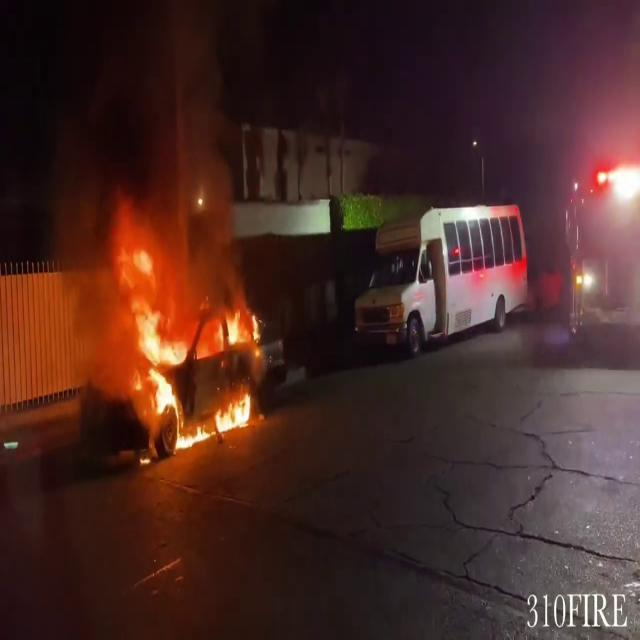Fire: (112, 238, 262, 456)
Smoke: (12, 0, 246, 279)
